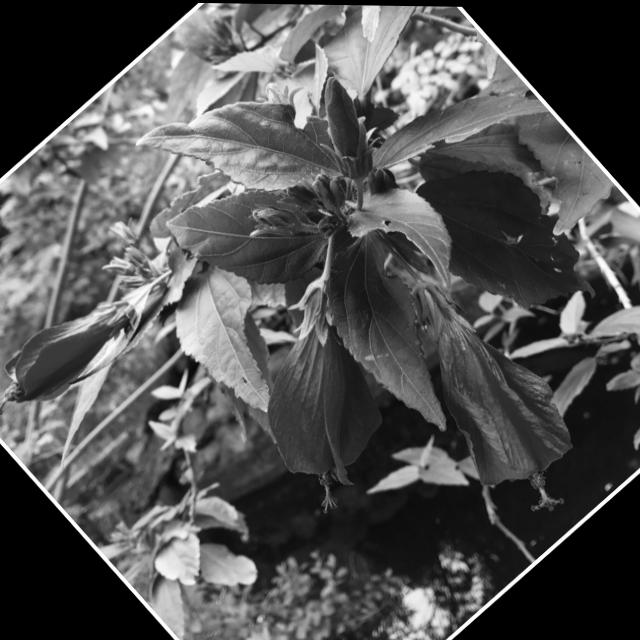Flower: (353, 259, 615, 535), (200, 282, 436, 524), (0, 262, 154, 440), (274, 59, 404, 194)
